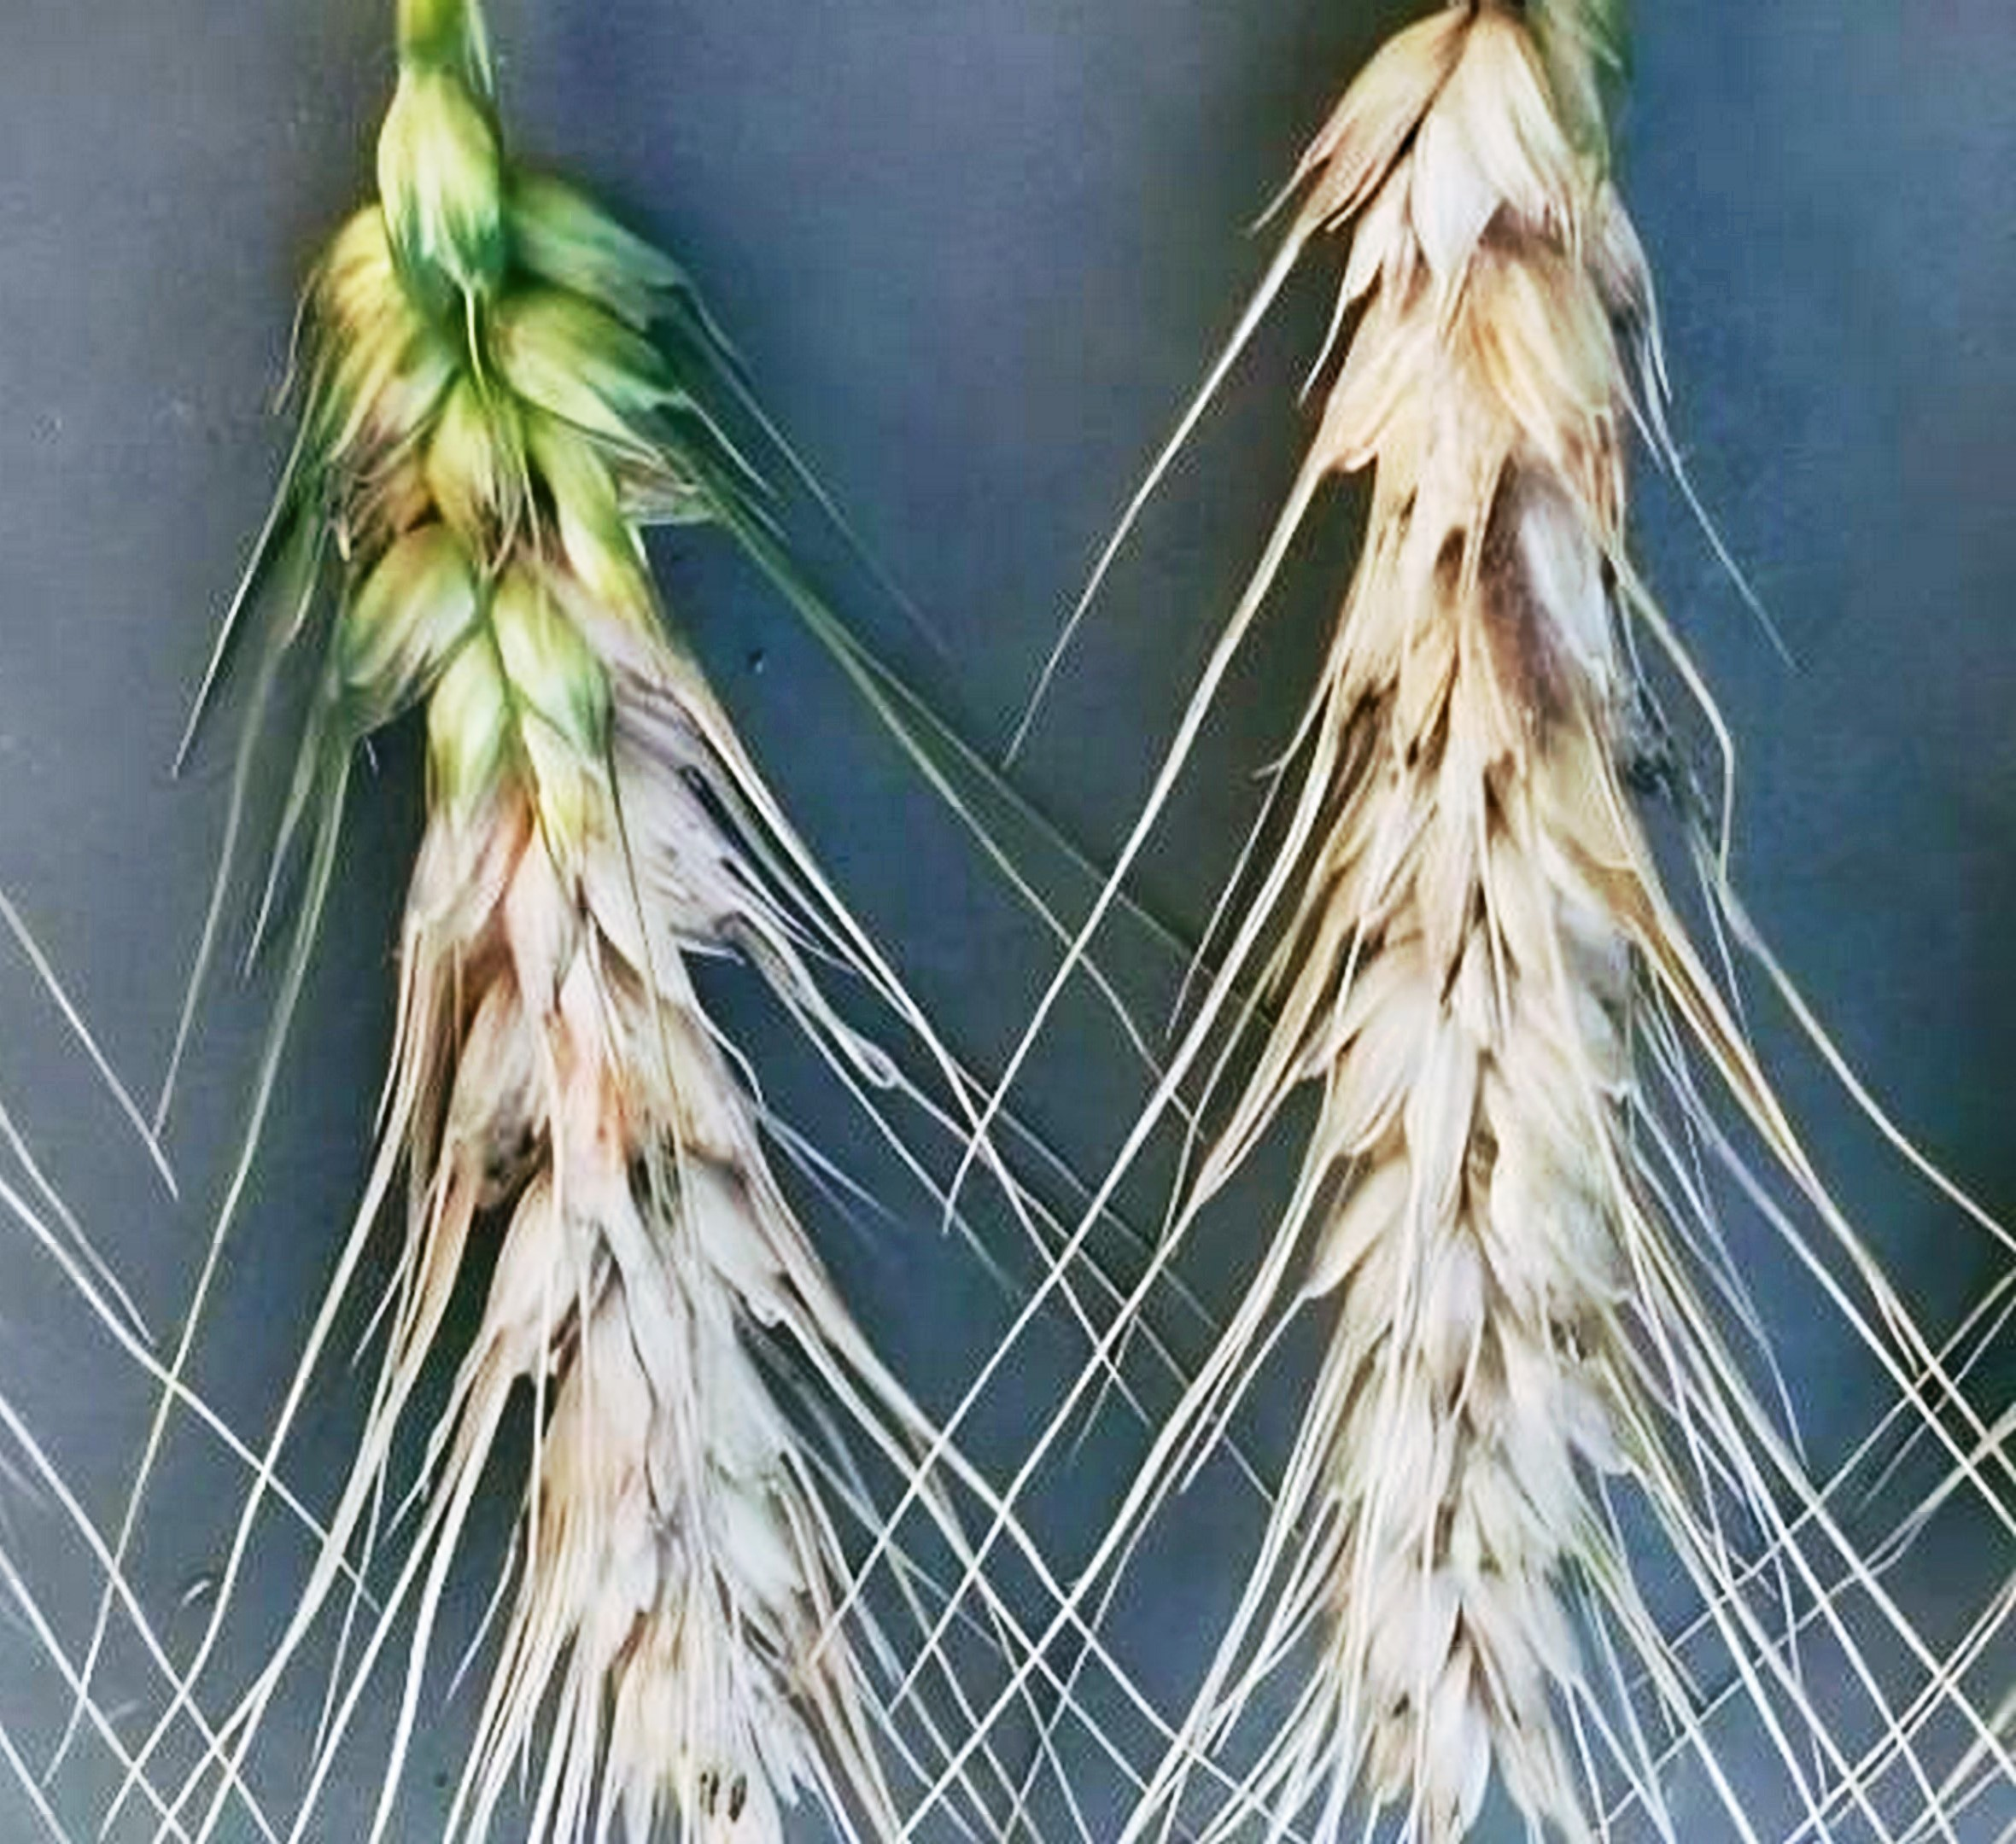Wheat scab: (262, 88, 890, 1835), (1208, 58, 1777, 1783)
